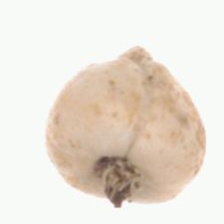L3: (109, 45, 166, 68)
L4: (45, 42, 206, 203)
